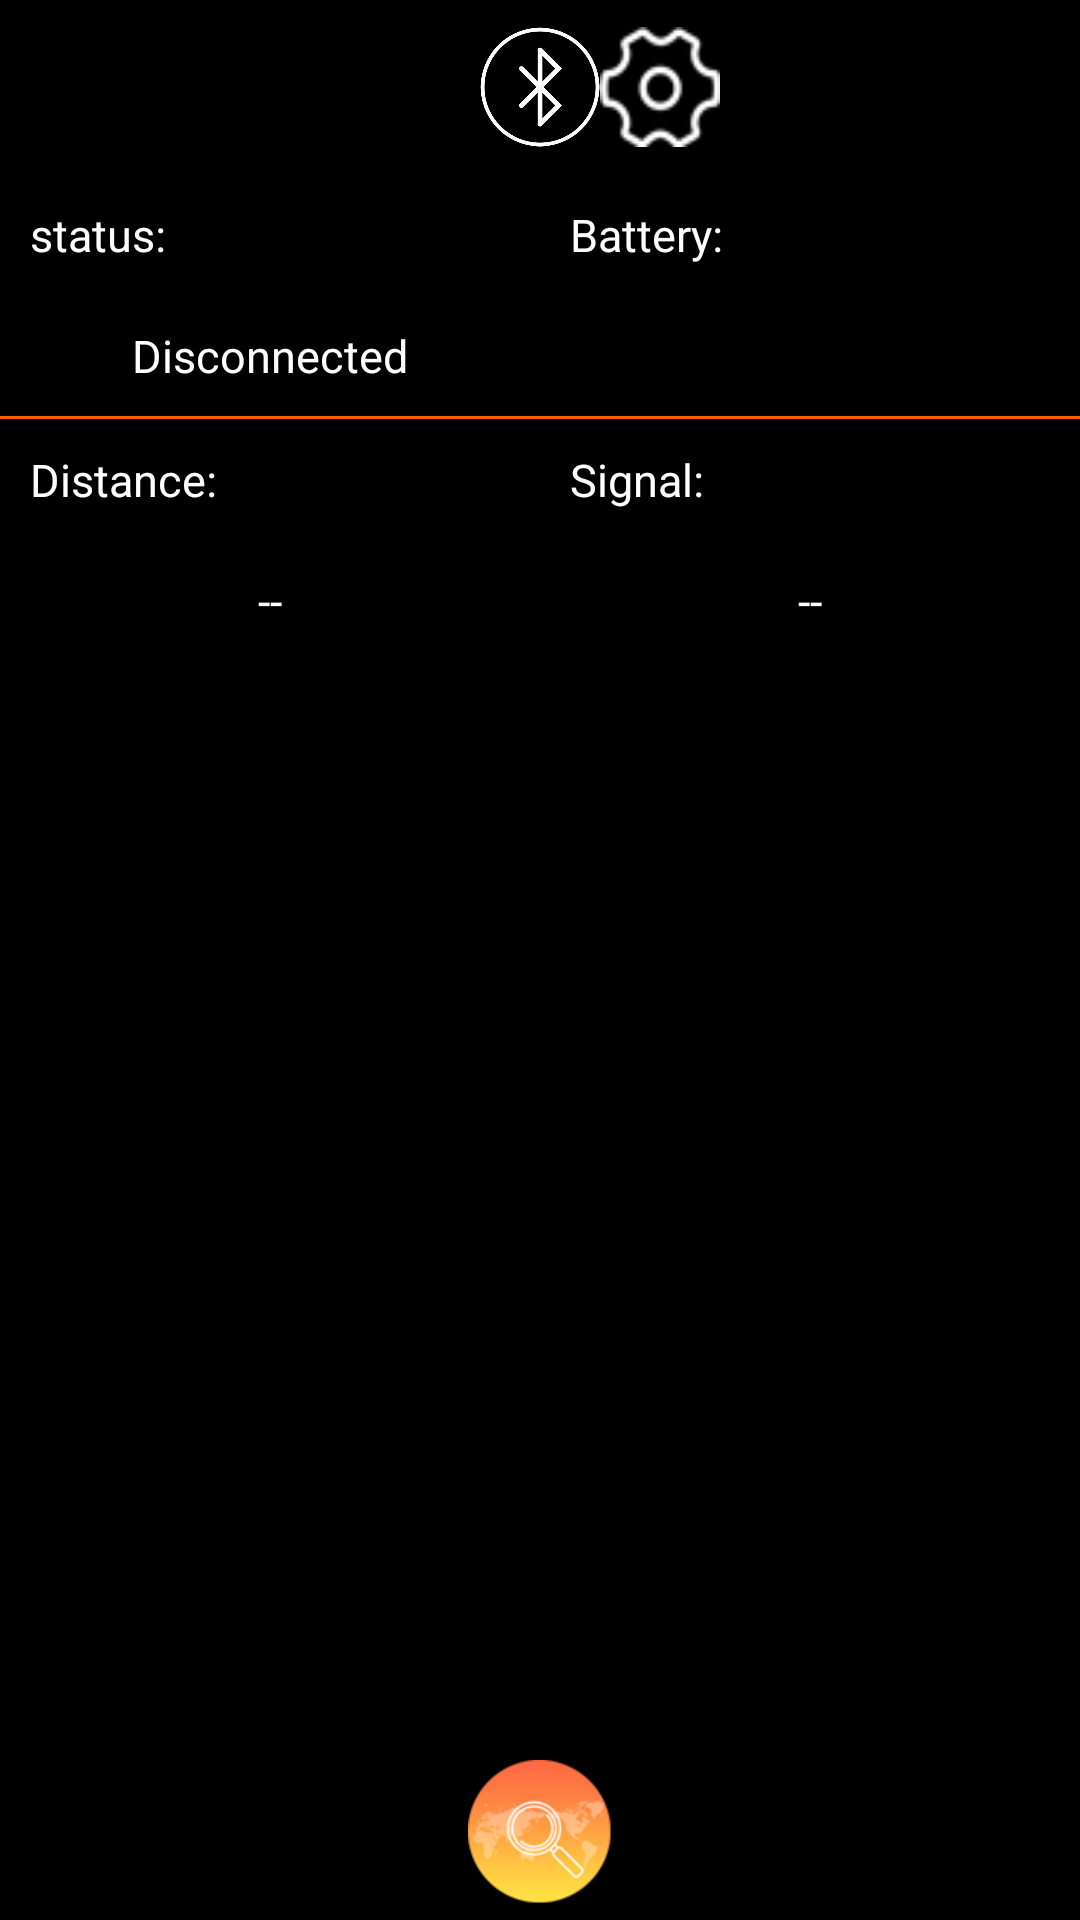

Icons on this 1080x1920 Android screen, each with the point to tap as (x,y):
search: (539,1831)
setting: (660,87)
